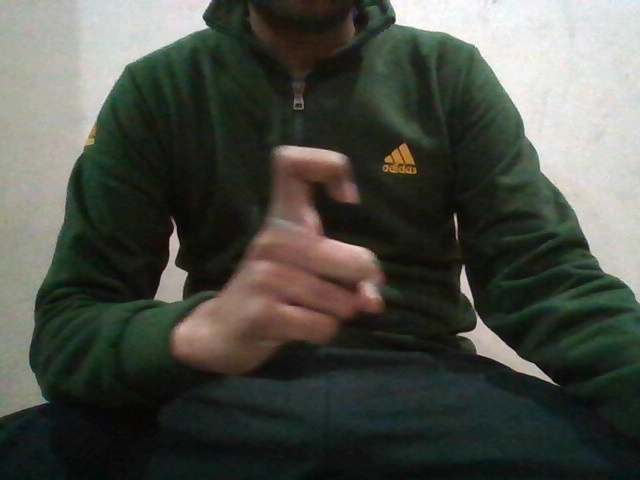P: (234, 138, 385, 350)
